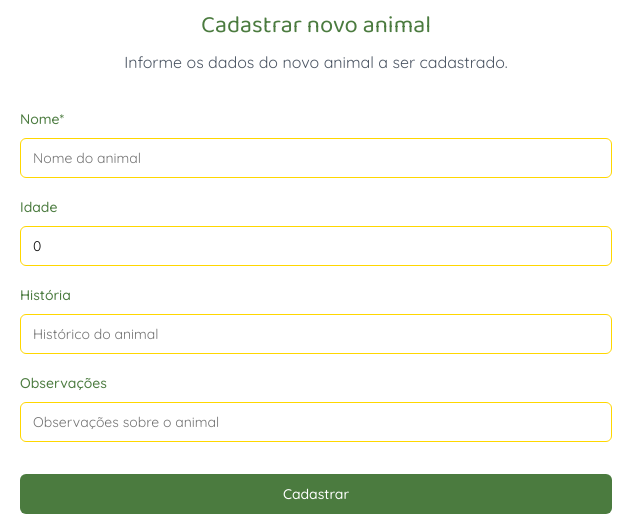
Test: pages / add animals › should reset form after adding a new animal
The image size is (633, 531).
Type "Bidu" into the field labelled "Nome*" at (316, 158), box [20,138,612,178]
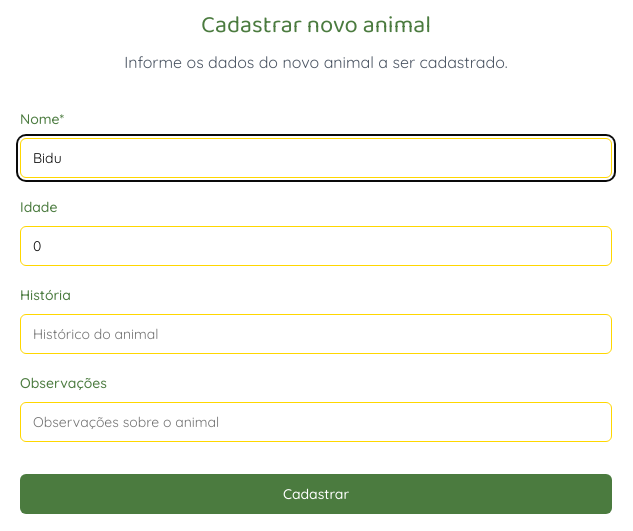
Type "2" into the number field labelled "Idade" at (316, 246), box [20,226,612,266]
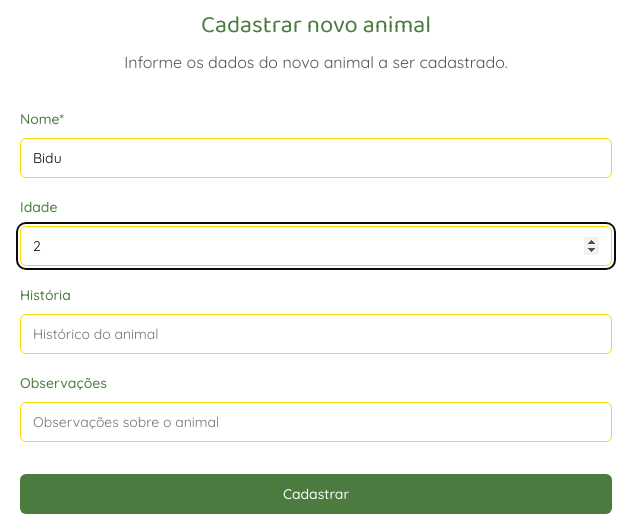
Type "Great dog" into the field labelled "História" at (316, 334), box [20,314,612,354]
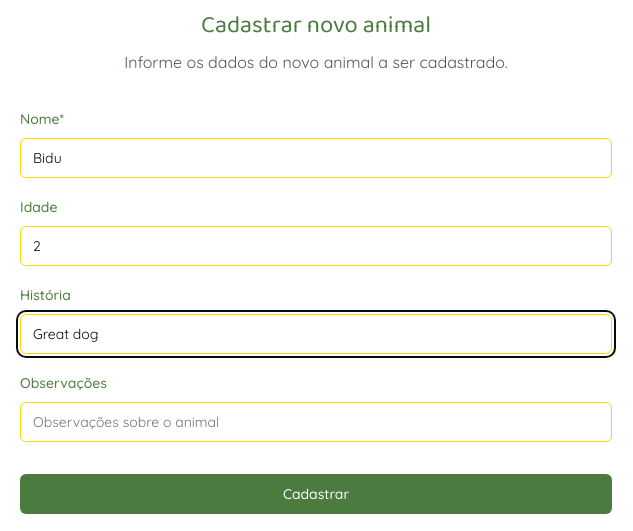
Type "Very friendly" into the field labelled "Observações" at (316, 422), box [20,402,612,442]
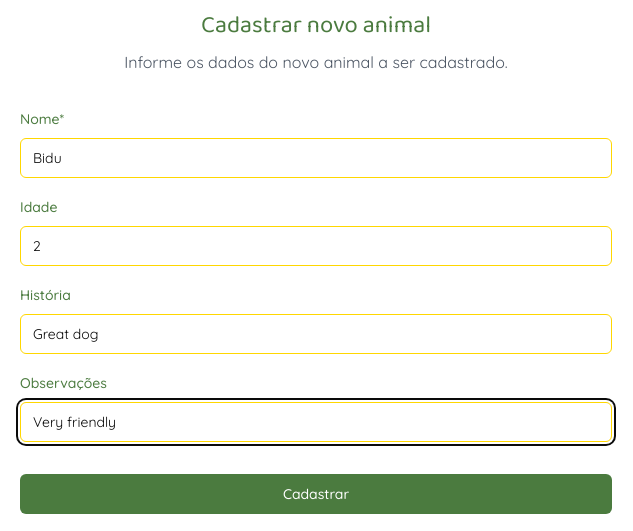
Click the button at (316, 494), box [20,474,612,514]
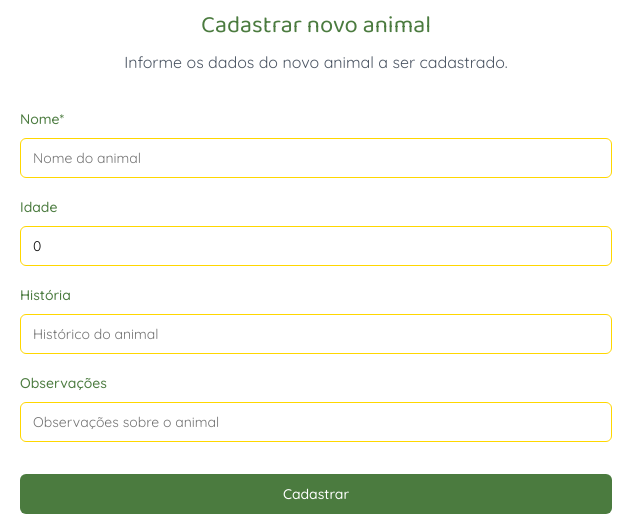
Check: the field labelled "Nome*" is empty, box [20,138,612,178]
Check: the number field labelled "Idade" holds "0", box [20,226,612,266]
Check: the field labelled "História" is empty, box [20,314,612,354]
